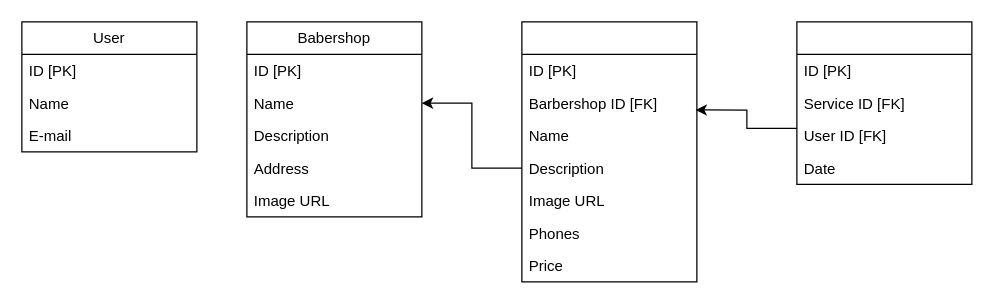
Some shapes in this 994 by 308 pixel diagram are drawn without their labels. The box of each missing label's shape, as (x1, y1, x2, y2) in pixels:
Babershop Service: (521, 21, 697, 282)
Booking: (796, 21, 972, 184)
